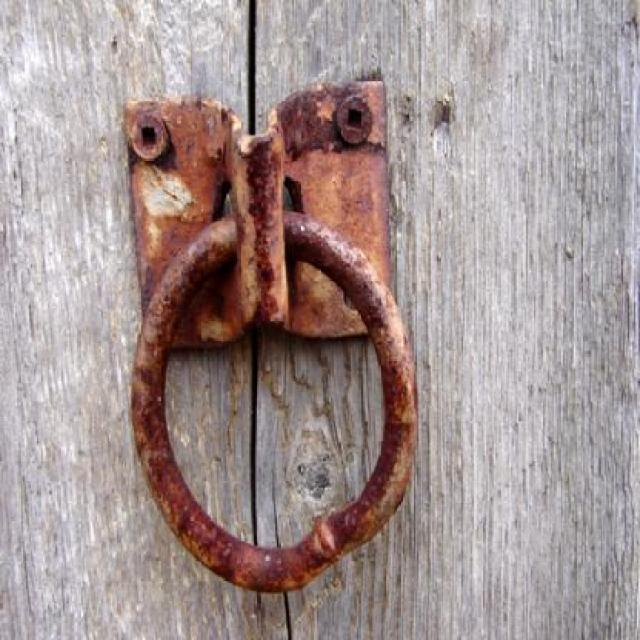corrosion: (123, 72, 422, 597)
